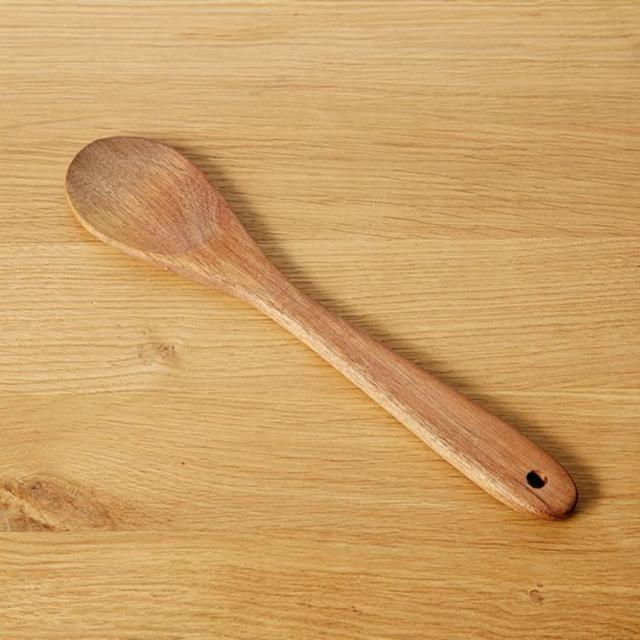spoon: (57, 122, 596, 528)
